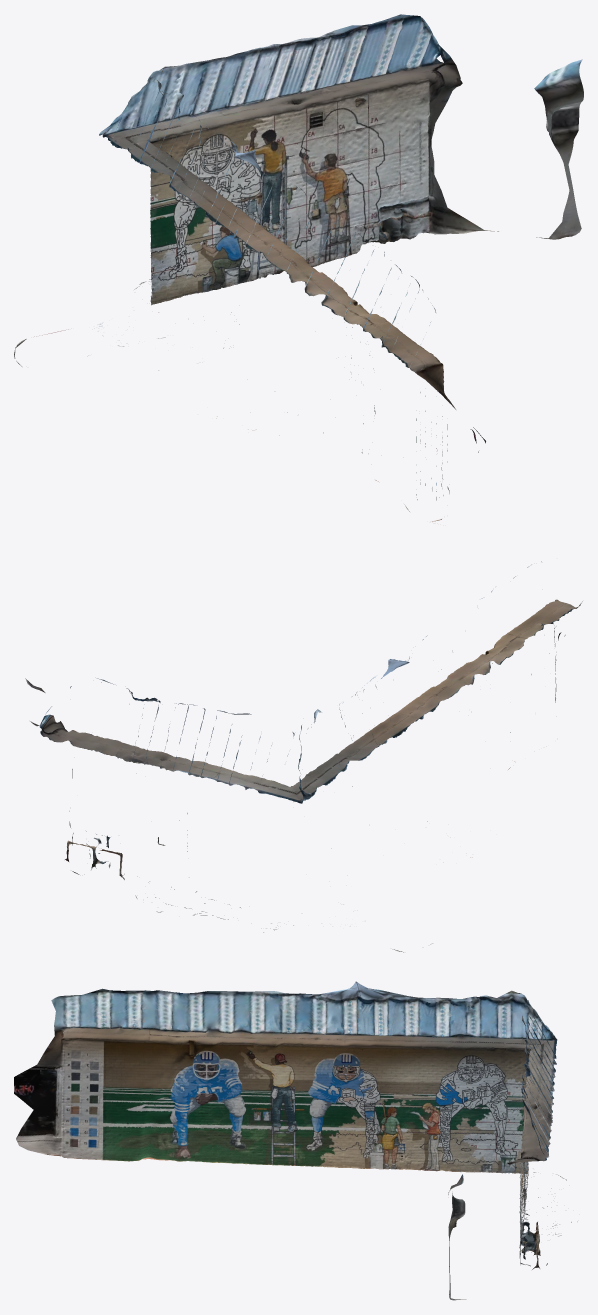
File: BOBS-transformed.glb
3 views of the same model, one above another, from view 1: azimuth 30°, elevation 25°; view 2: azimuth 150°, elevation 25°; view 3: azimuth 270°, elevation 25° (orthographic). The views are drawn at different scales.
Bounding box in the file's own units: 9.49 × 4.22 × 11.45.
Materials: 1 (1 with a texture image).
